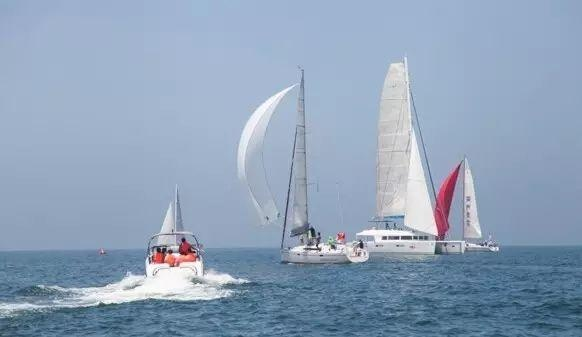fanchuan: (359, 55, 490, 258), (237, 63, 370, 262), (139, 185, 205, 285)
